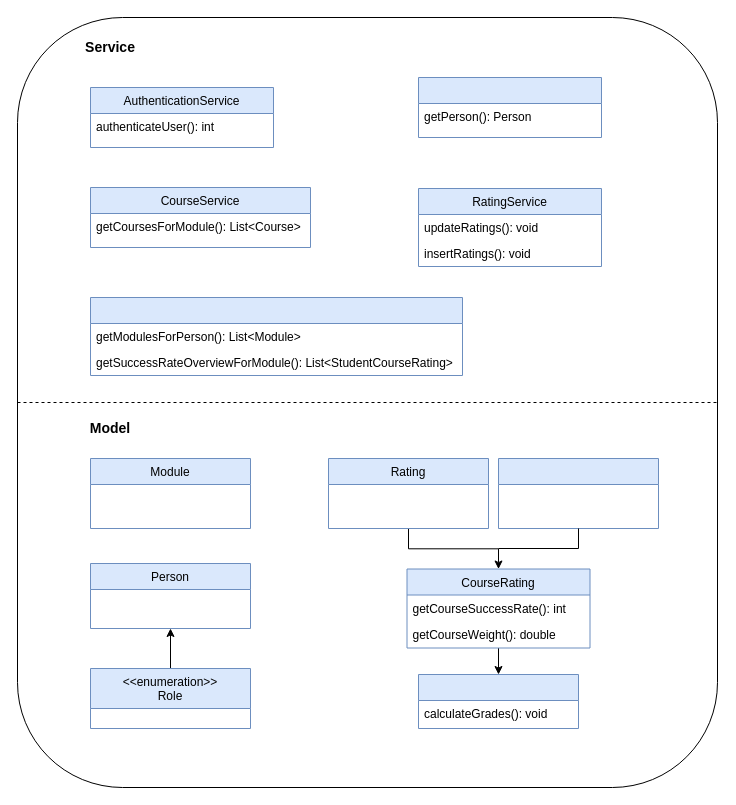
Some shapes in this 736 by 805 pixel diagram are drawn without their labels. Each missing label, with the box of its shape:
Course: (498, 458, 658, 528)
ModuleService: (90, 296, 462, 376)
PersonService: (418, 76, 602, 138)
StudentCourseRating: (418, 674, 578, 728)
